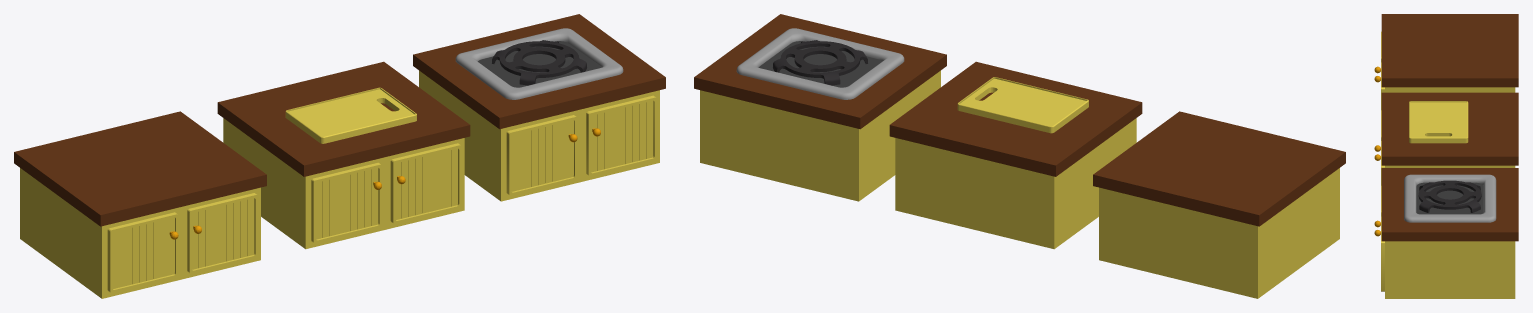
Rendered from encimera.fbx.
The picture shows the model from 3 angles, left to right: view 1: azimuth 30°, elevation 25°; view 2: azimuth 150°, elevation 25°; view 3: azimuth 270°, elevation 25°; orthographic projection. The views are drawn at different scales.
Parts seen in each view (by area): view 1: encimera, tabla, hierro fuego; view 2: encimera, tabla, hierro fuego; view 3: hierro fuego, encimera, tabla.
Part boxes in pixels (x1,y1,x2,y2): encimera: (14, 111, 266, 298); tabla: (217, 61, 470, 249); hierro fuego: (413, 14, 665, 201); encimera: (1093, 111, 1345, 298); tabla: (889, 61, 1142, 249); hierro fuego: (694, 14, 946, 201); hierro fuego: (1374, 168, 1518, 298); encimera: (1374, 14, 1518, 110); tabla: (1374, 92, 1518, 185).
Size of the model in its own units: 1794 by 285 by 500.
